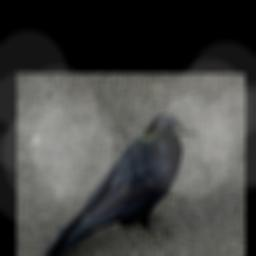Crow: (42, 114, 198, 256)
